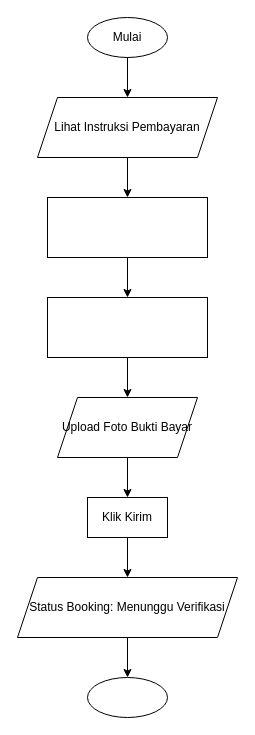
This 255x735 diagram has some shape labels left out. Here are the shapes that lost their labels. From the top down, the centre of each, then its label:
At point 127,227: "Transfer ke Rekening Bank".
At point 127,327: "Buka Halaman Konfirmasi".
At point 127,697: "Selesai".
